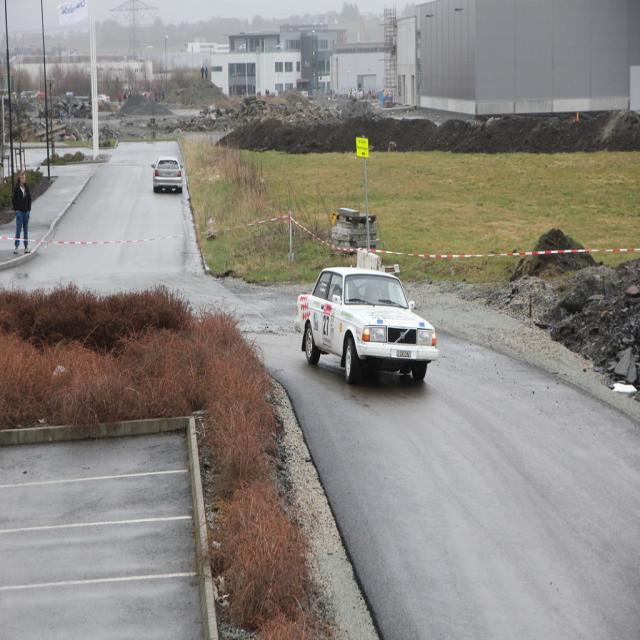car: (293, 267, 440, 381), (150, 157, 182, 196)
